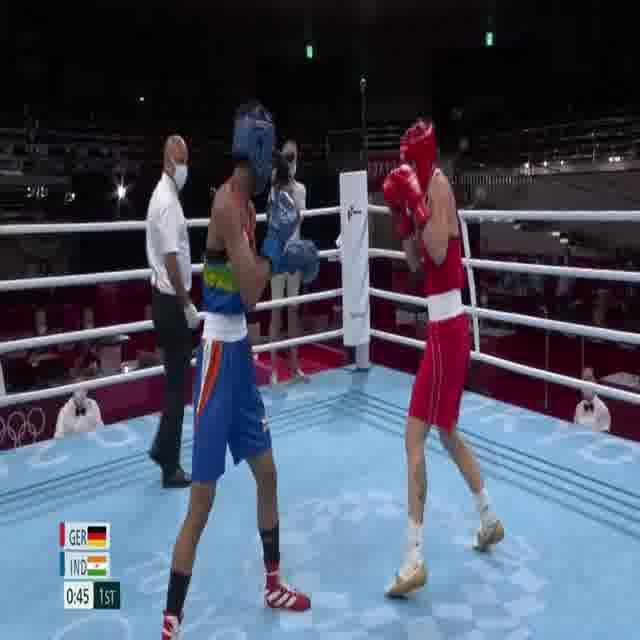blue-player: (159, 89, 322, 640)
red-player: (378, 110, 508, 599)
referee: (140, 128, 200, 494)
